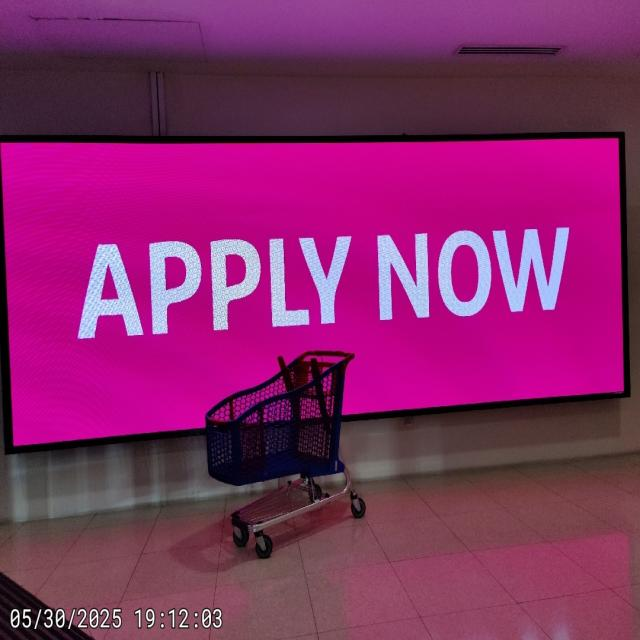digital-board-big: (2, 134, 629, 451)
